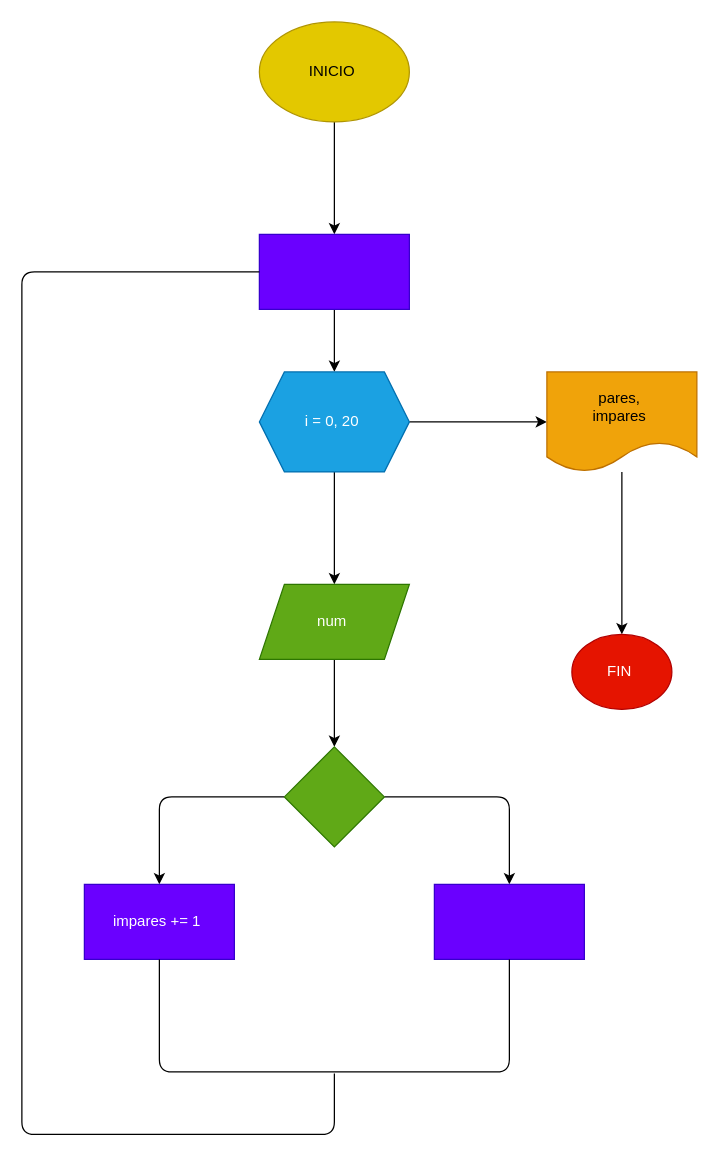
The diagram is 719 pixels wide and 1158 high, and some of its shapes have lost their labels. The centre of each missing label's shape, as x and y in pixels:
"num% 2 = 0" belongs at (333,796).
"pares += 1" belongs at (508,921).
"pares = 0 impares = 0" belongs at (333,271).
